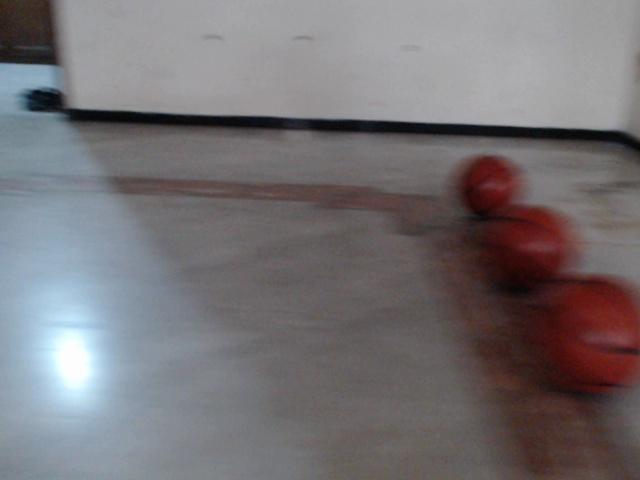Sports-Ball: (528, 277, 640, 397), (483, 205, 561, 288), (456, 149, 514, 211)
